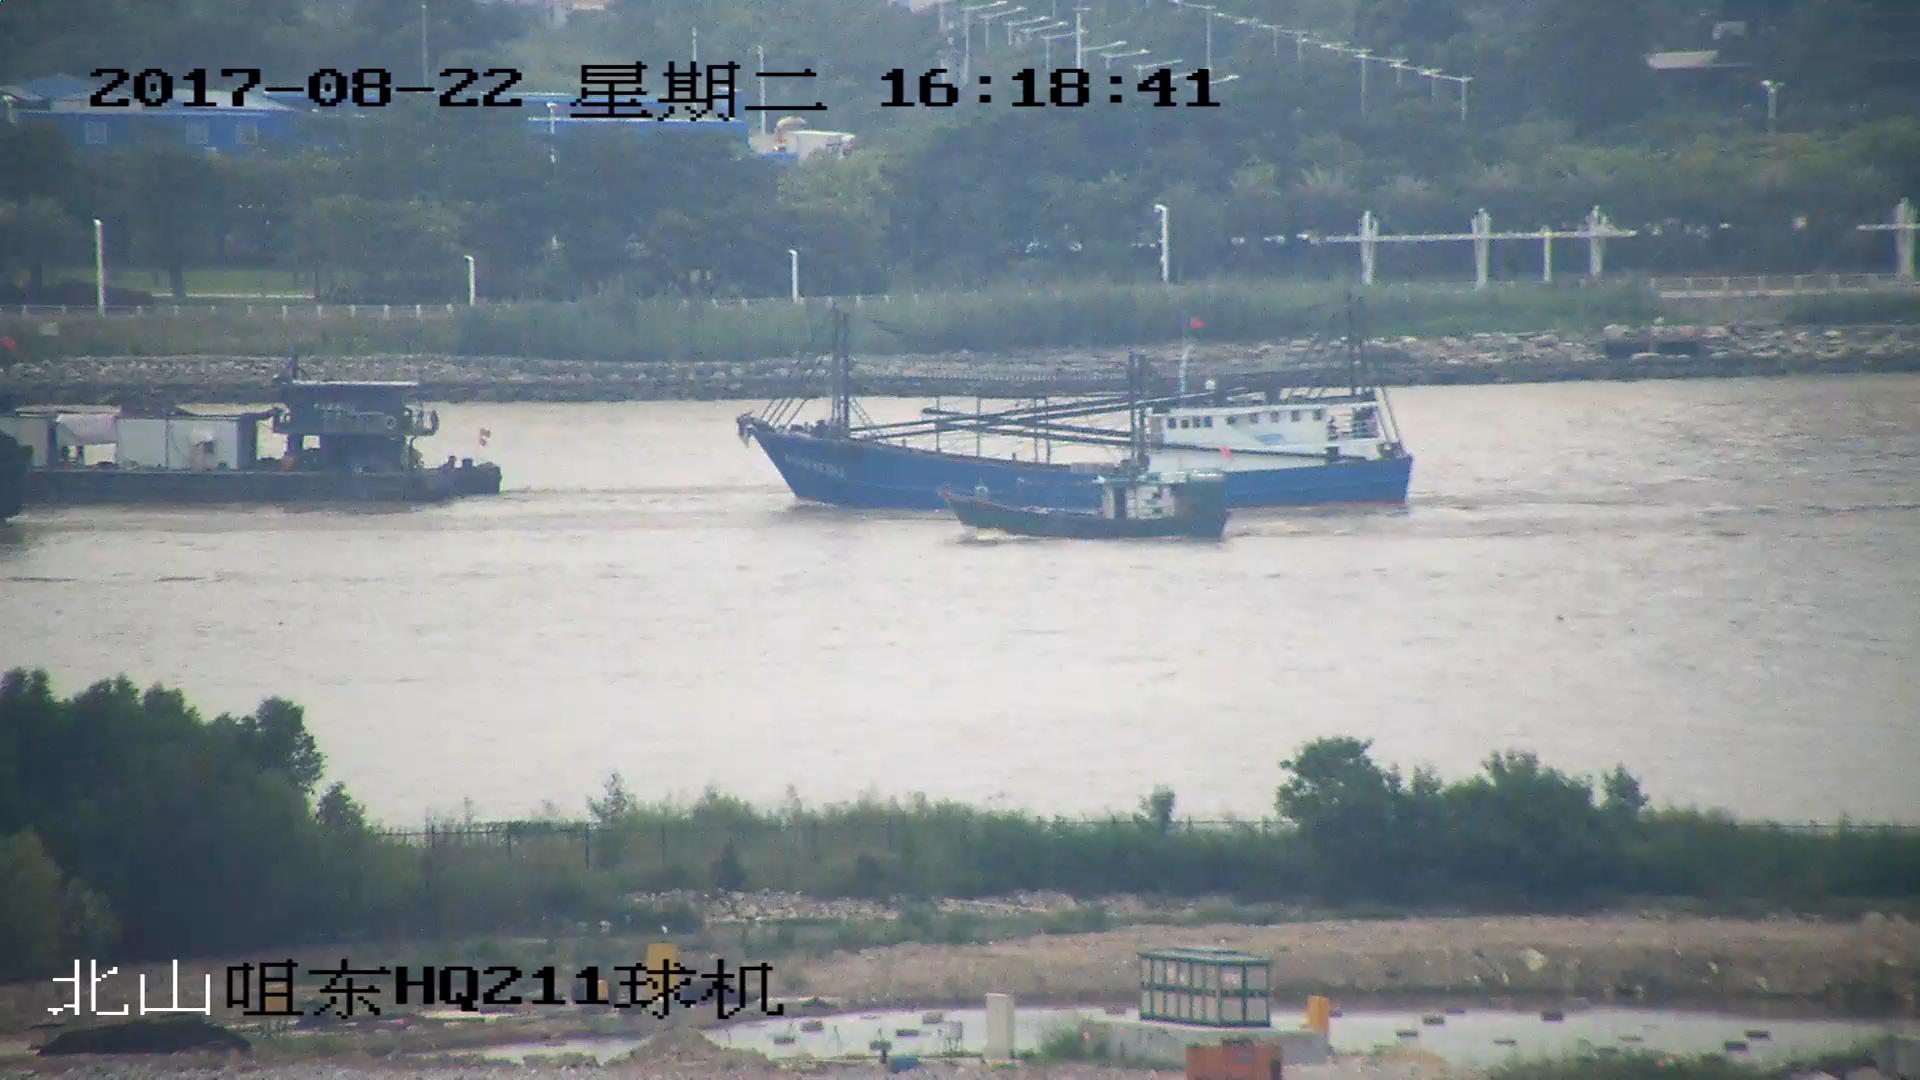bulk cargo carrier: (1, 364, 506, 501)
fishing boat: (731, 297, 1414, 516), (946, 461, 1231, 541)
